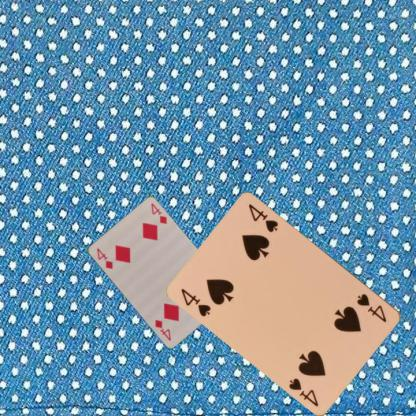4d: (94, 245, 114, 270)
4s: (354, 290, 388, 324), (178, 286, 212, 318)
